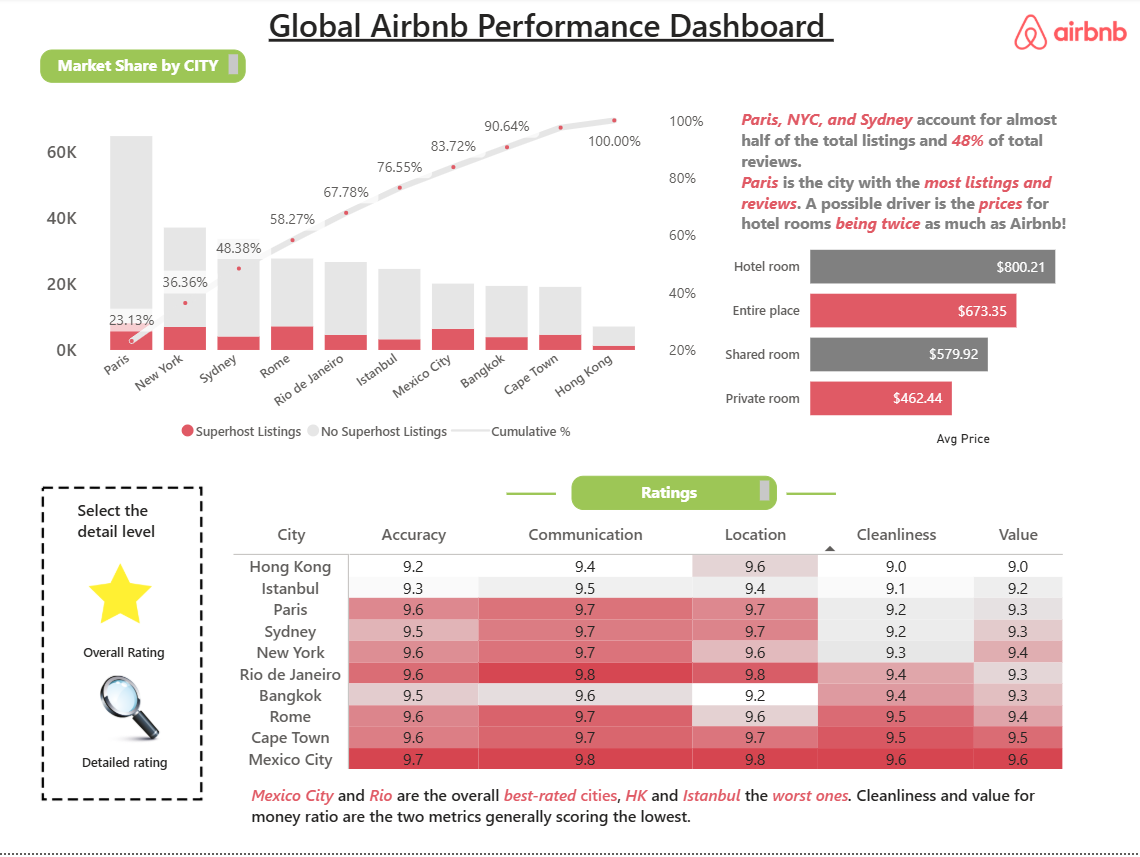

The dashboard page shown, as its layout file describes it:
{"tool":"powerbi","page":{"name":"Ratings","canvas":[960,720],"ordinal":1},"visuals":[{"type":"textbox","box":[221.4,0,517.3,58.9],"z":0},{"type":"image","box":[65.7,570.7,86.1,57.7],"z":0,"group":"g2"},{"type":"image","box":[842.2,14.7,117.8,29.4],"z":1000},{"type":"textbox","box":[54.4,628.5,102,28.4],"z":1000,"group":"g2"},{"type":"textbox","box":[34.7,44.2,172.4,28.4],"z":2000},{"type":"lineStackedColumnComboChart","fields":{"Category":["Listings.city"],"Y":["Listings.Superhost Listings","Listings.No Superhost Listings"],"Y2":["Listings.Cumulative %"]},"box":[35.2,87.9,569.1,294.4],"z":3000},{"type":"barChart","fields":{"Y":["Listings.Avg Price"],"Category":["Listings.room_type"]},"box":[604.3,184.6,340.6,197.8],"z":4000},{"type":"textbox","box":[619.6,87.9,294.4,122],"z":5000},{"type":"image","box":[73.6,466.5,56.6,69.1],"z":5006,"group":"g1"},{"type":"textbox","box":[54.4,535.6,100.8,28.3],"z":5011,"group":"g1"},{"type":"textbox","box":[481.2,403.2,172.5,28.6],"z":7000},{"type":"shape","box":[427.4,382.3,41.7,70.3],"z":8000},{"type":"shape","box":[662.5,382.3,41.7,70.3],"z":9000},{"type":"image","box":[0,397.5,207.2,293.3],"z":10000},{"type":"pivotTable","fields":{"Rows":["Listings.city"],"Values":["Listings.Accuracy","Listings.Communication","Listings.Location","Listings.Cleanliness","Listings.Value"]},"box":[192.5,437.1,707.7,266.1],"z":11000},{"type":"textbox","box":[61.1,417.8,94,48.7],"z":12000},{"type":"group","id":"g1","title":"Group 1","box":[54.4,466.5,100.8,97.4],"z":13000},{"type":"group","id":"g2","title":"Group 2","box":[54.4,570.7,102,86.2],"z":14000},{"type":"textbox","box":[207.1,657.1,706.5,63.1],"z":15000}]}

Visuals, with their boxes in screenshot pixels (x1, y1, x2, y2), scaled from the page's 960x720 canvas onto the 1140x857 screenshot:
textbox: {"x1": 263, "y1": 0, "x2": 877, "y2": 70}
image: {"x1": 78, "y1": 679, "x2": 180, "y2": 748}
image: {"x1": 1000, "y1": 17, "x2": 1139, "y2": 52}
textbox: {"x1": 65, "y1": 748, "x2": 186, "y2": 782}
textbox: {"x1": 41, "y1": 53, "x2": 246, "y2": 86}
lineStackedColumnComboChart - Listings.city x Listings.Superhost Listings: {"x1": 42, "y1": 105, "x2": 718, "y2": 455}
barChart - Listings.Avg Price x Listings.room_type: {"x1": 718, "y1": 220, "x2": 1122, "y2": 455}
textbox: {"x1": 736, "y1": 105, "x2": 1085, "y2": 250}
image: {"x1": 87, "y1": 555, "x2": 155, "y2": 638}
textbox: {"x1": 65, "y1": 638, "x2": 184, "y2": 671}
textbox: {"x1": 571, "y1": 480, "x2": 776, "y2": 514}
shape: {"x1": 508, "y1": 455, "x2": 557, "y2": 539}
shape: {"x1": 787, "y1": 455, "x2": 836, "y2": 539}
image: {"x1": 0, "y1": 473, "x2": 246, "y2": 822}
pivotTable - Listings.city x Listings.Accuracy: {"x1": 229, "y1": 520, "x2": 1069, "y2": 837}
textbox: {"x1": 73, "y1": 497, "x2": 184, "y2": 555}
"Group 1" group: {"x1": 65, "y1": 555, "x2": 184, "y2": 671}
"Group 2" group: {"x1": 65, "y1": 679, "x2": 186, "y2": 782}
textbox: {"x1": 246, "y1": 782, "x2": 1085, "y2": 856}
